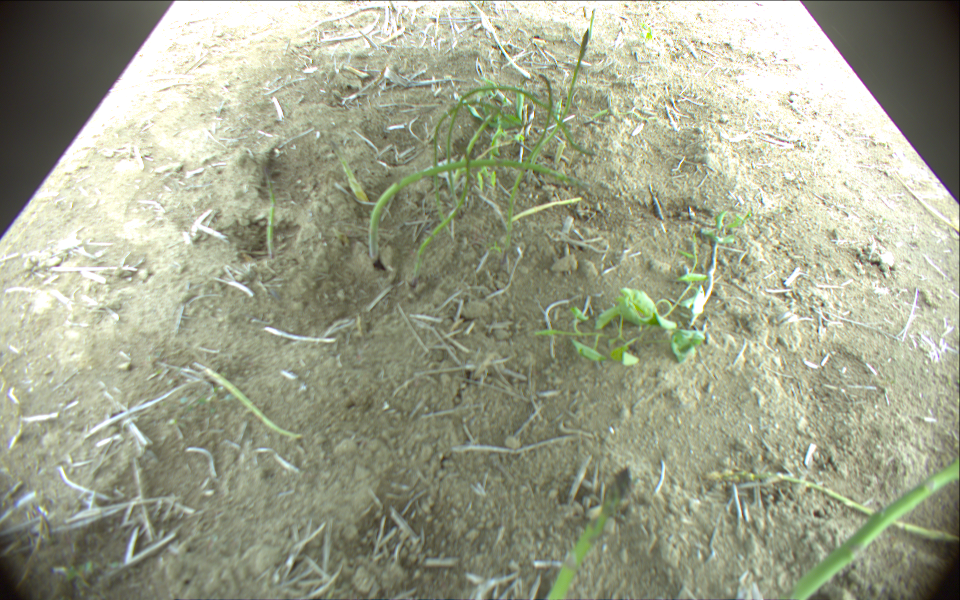aspa: (783, 452, 960, 599), (366, 159, 573, 263), (708, 467, 960, 549), (446, 87, 596, 183), (544, 468, 631, 600), (526, 30, 589, 179), (505, 74, 555, 248), (196, 360, 304, 440), (412, 142, 473, 281), (431, 113, 457, 234), (452, 111, 494, 184), (328, 138, 371, 206), (504, 196, 583, 227), (261, 163, 277, 258), (589, 6, 596, 43)
